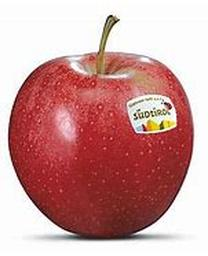apple: (8, 15, 195, 238)
